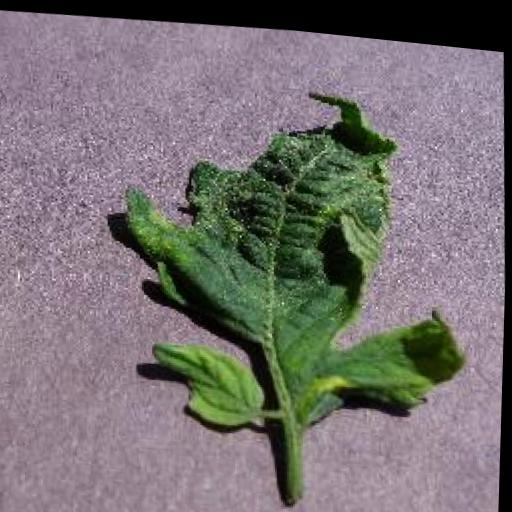Mosaic Virus: (108, 61, 476, 444)
